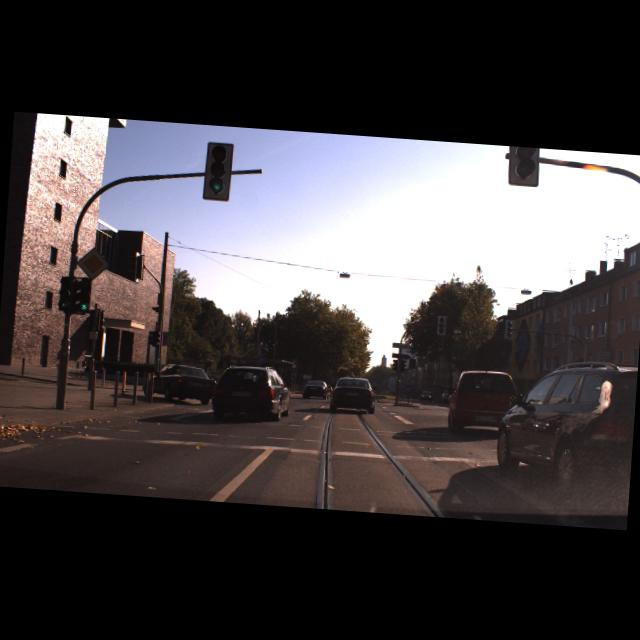mandatory: (404, 382, 415, 393)
other: (76, 244, 112, 280)
